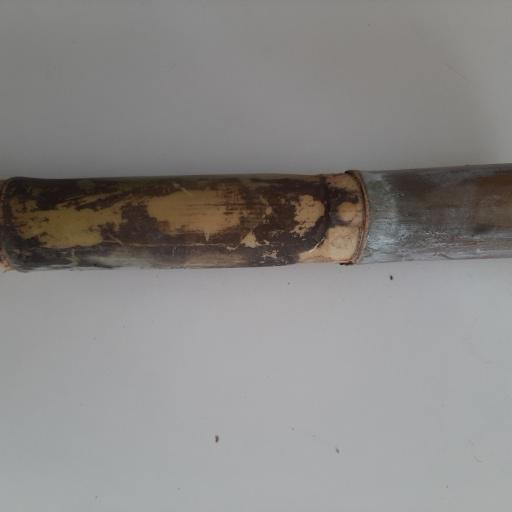Bud: (330, 195, 360, 225)
